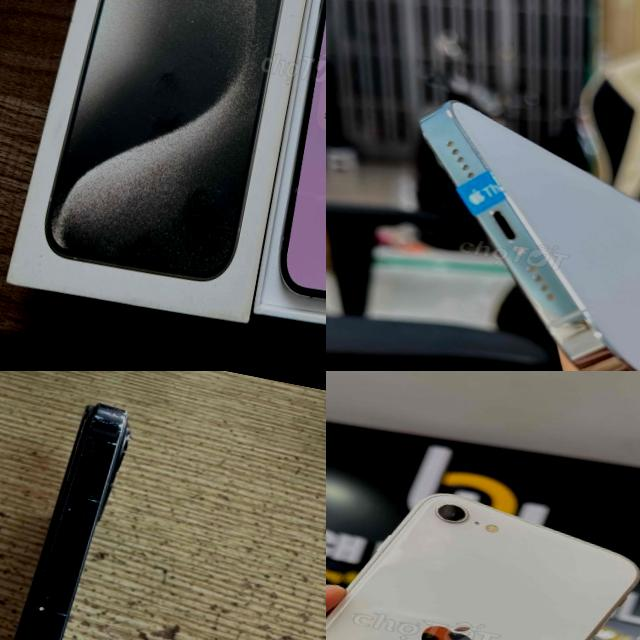gen_12_13: (0, 371, 174, 640)
gen_14: (379, 92, 640, 371)
gen_15: (253, 0, 326, 340)
gen_7_8: (326, 459, 640, 640)
